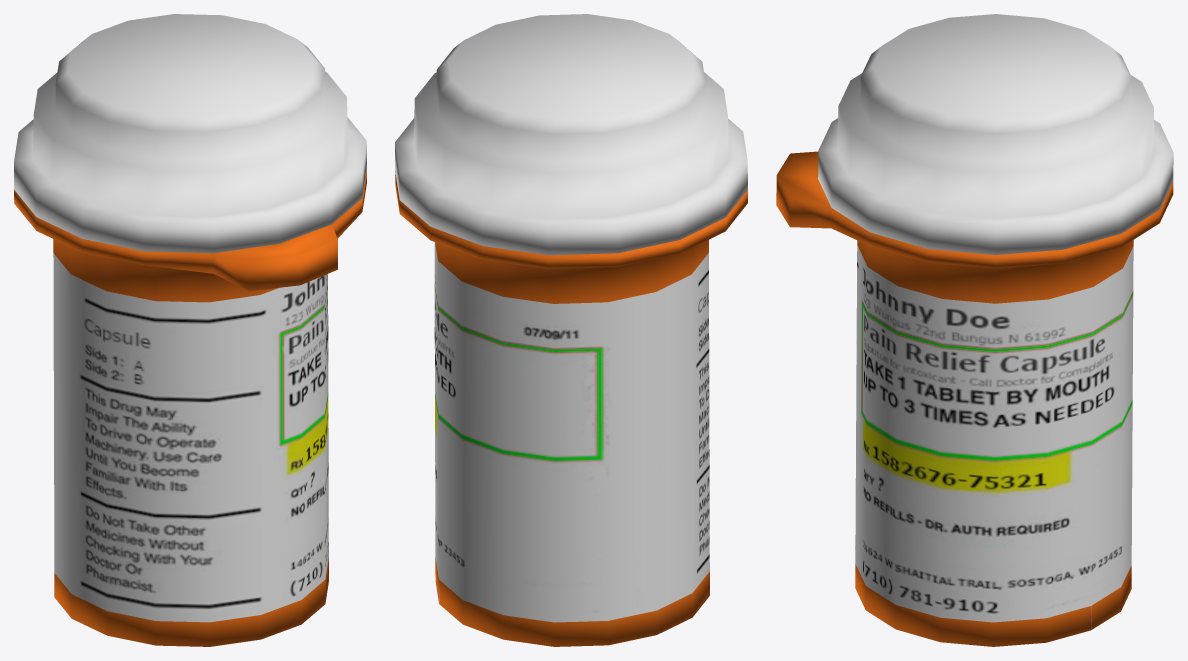
File: prescription_pill_bottle.glb
3 views of the same model, side by side, from view 1: azimuth 30°, elevation 25°; view 2: azimuth 150°, elevation 25°; view 3: azimuth 270°, elevation 25° (orthographic).
Visible parts, largest first — view 1: Cylinder.003, Cylinder.002; view 2: Cylinder.003, Cylinder.002; view 3: Cylinder.003, Cylinder.002.
Boxes of the visible parts, x1,y1,x2,y2 form: Cylinder.003: [14, 170, 366, 646]; Cylinder.002: [14, 14, 366, 253]; Cylinder.003: [395, 171, 747, 646]; Cylinder.002: [395, 14, 747, 255]; Cylinder.003: [776, 151, 1173, 646]; Cylinder.002: [818, 14, 1173, 254].
Bounding box in the file's own units: 0.9896 × 1.61 × 1.11.
1 material, 1 textured.
